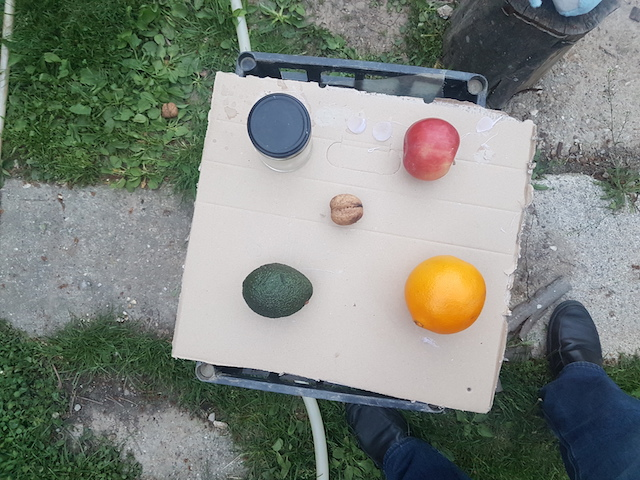apple: (401, 115, 461, 181)
avocado: (239, 261, 315, 320)
nut: (325, 192, 367, 226)
orange: (404, 252, 490, 336)
recipient: (239, 91, 314, 160)
